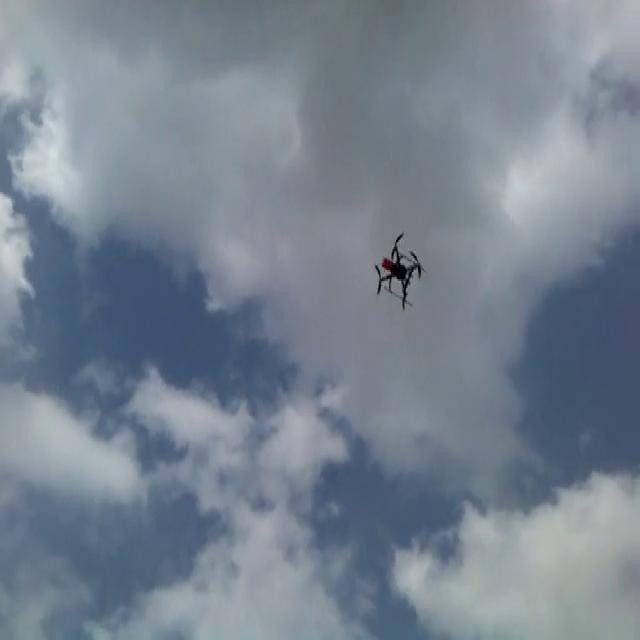drone: (372, 228, 425, 308)
